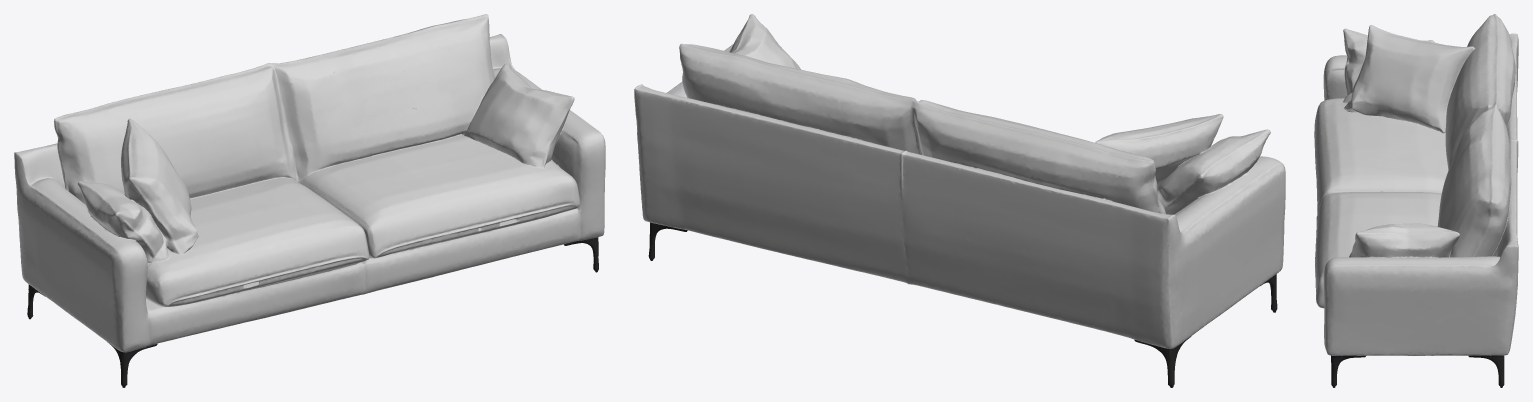
Rendered from WHITE SOFA MEDIUM SIZE.glb.
3 views of the same model, side by side, from view 1: azimuth 30°, elevation 25°; view 2: azimuth 150°, elevation 25°; view 3: azimuth 270°, elevation 25° (orthographic). The views are drawn at different scales.
Visible parts, largest first — view 1: world; view 2: world; view 3: world.
Boxes of the visible parts, bbox=[...] form: world: bbox=[14, 14, 605, 387]; world: bbox=[634, 14, 1285, 387]; world: bbox=[1314, 14, 1518, 387].
Bounding box in the file's own units: 1 × 0.3897 × 0.4017.
1 material, 1 textured.
